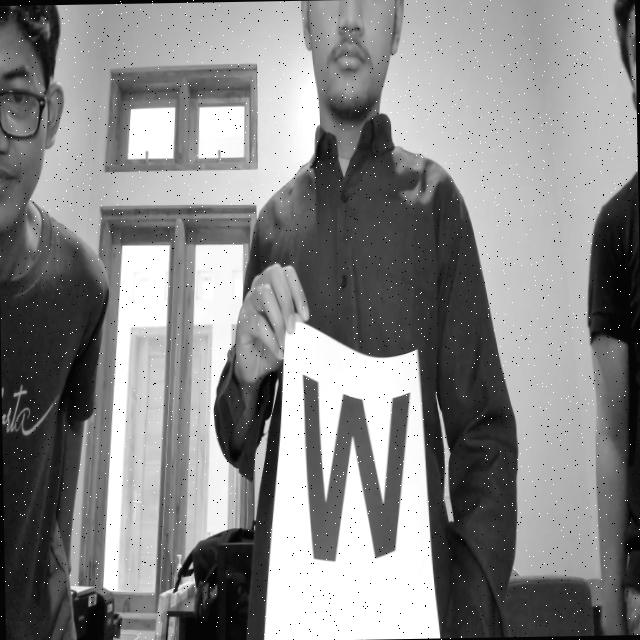w: (286, 366, 420, 576)
